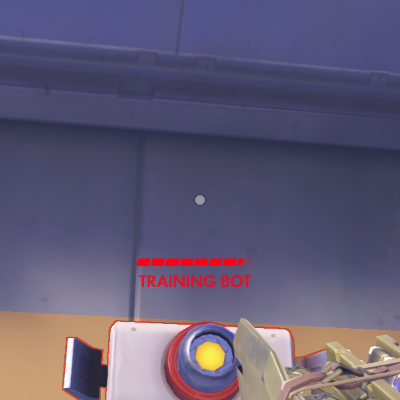hpbar: (136, 258, 251, 267)
